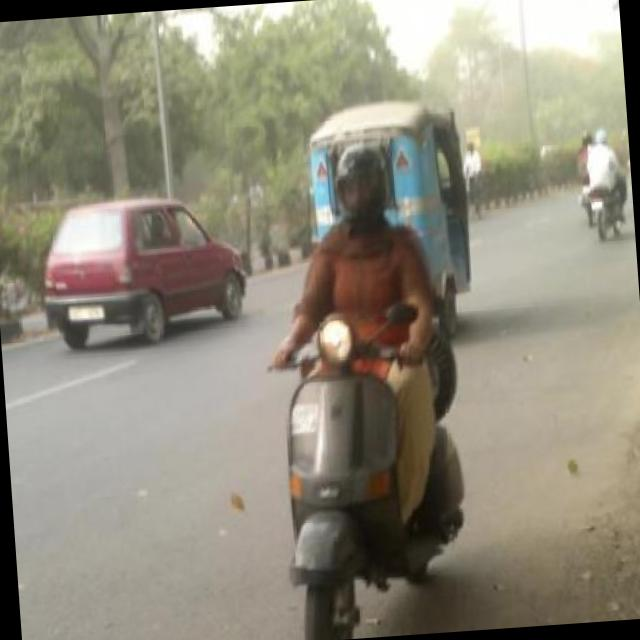With Helmet: (330, 138, 394, 230)
